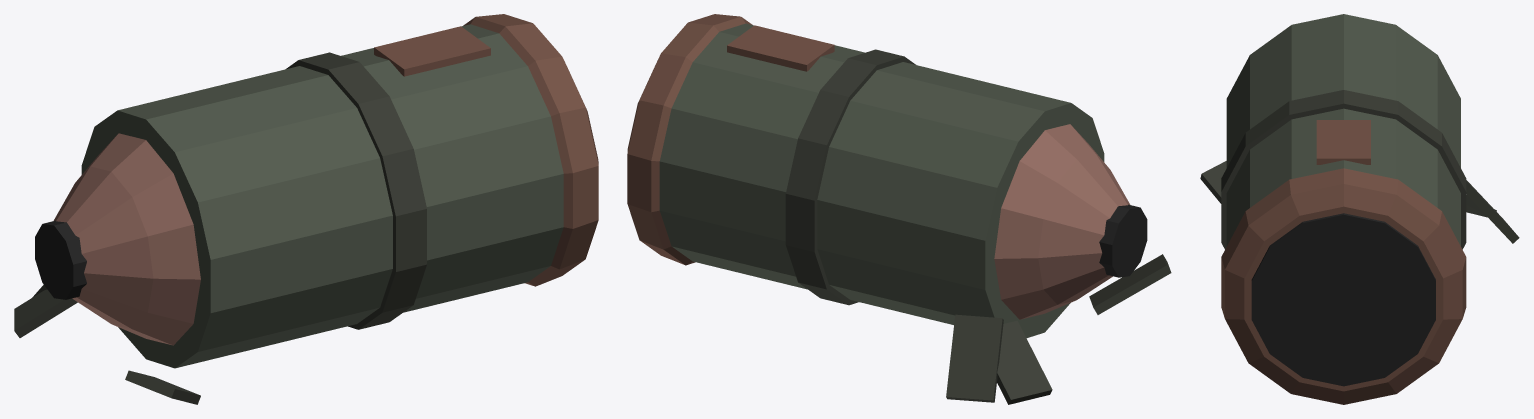
File: junk_jet_engine.obj
3 renders of one model, left to right at view 1: azimuth 30°, elevation 25°; view 2: azimuth 150°, elevation 25°; view 3: azimuth 270°, elevation 25°, orthographic. The views are drawn at different scales.
Parts seen in each view (by area): view 1: junk_jet_engine_0, junk_jet_engine_4, junk_jet_engine_1, junk_jet_engine_2, junk_jet_engine_9, junk_jet_engine_5, junk_jet_engine_6, junk_jet_engine_7; view 2: junk_jet_engine_0, junk_jet_engine_4, junk_jet_engine_1, junk_jet_engine_2, junk_jet_engine_8, junk_jet_engine_6, junk_jet_engine_9, junk_jet_engine_5, junk_jet_engine_7; view 3: junk_jet_engine_0, junk_jet_engine_3, junk_jet_engine_2, junk_jet_engine_1, junk_jet_engine_9, junk_jet_engine_8, junk_jet_engine_7.
Part boxes in pixels (left/top/right/bottom): junk_jet_engine_0: left=81, top=24, right=563, bottom=368; junk_jet_engine_4: left=53, top=133, right=200, bottom=345; junk_jet_engine_1: left=286, top=52, right=426, bottom=329; junk_jet_engine_2: left=463, top=14, right=598, bottom=286; junk_jet_engine_9: left=374, top=26, right=490, bottom=76; junk_jet_engine_5: left=35, top=220, right=86, bottom=299; junk_jet_engine_6: left=14, top=289, right=77, bottom=337; junk_jet_engine_7: left=125, top=370, right=200, bottom=404; junk_jet_engine_0: left=659, top=23, right=1104, bottom=338; junk_jet_engine_4: left=994, top=124, right=1130, bottom=319; junk_jet_engine_1: left=785, top=49, right=915, bottom=305; junk_jet_engine_2: left=627, top=14, right=752, bottom=265; junk_jet_engine_8: left=946, top=314, right=1003, bottom=402; junk_jet_engine_6: left=997, top=320, right=1052, bottom=404; junk_jet_engine_9: left=727, top=25, right=834, bottom=71; junk_jet_engine_5: left=1099, top=204, right=1147, bottom=277; junk_jet_engine_7: left=1089, top=254, right=1171, bottom=314; junk_jet_engine_0: left=1226, top=14, right=1460, bottom=246; junk_jet_engine_3: left=1251, top=213, right=1435, bottom=386; junk_jet_engine_2: left=1221, top=168, right=1466, bottom=404; junk_jet_engine_1: left=1221, top=90, right=1466, bottom=249; junk_jet_engine_9: left=1316, top=120, right=1370, bottom=164; junk_jet_engine_8: left=1466, top=180, right=1519, bottom=243; junk_jet_engine_7: left=1200, top=161, right=1226, bottom=203.
Bounding box in the file's own units: 2.84 × 1.39 × 1.75.
